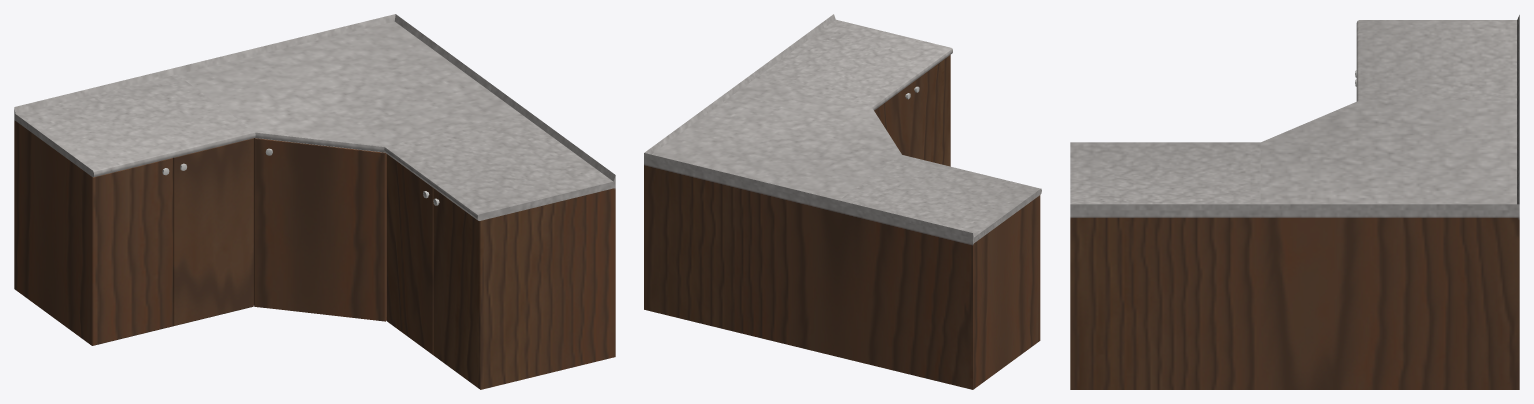
The model's file is CabinetRonded.obj.
3 renders of one model, left to right at view 1: azimuth 30°, elevation 25°; view 2: azimuth 150°, elevation 25°; view 3: azimuth 270°, elevation 25°, orthographic. The views are drawn at different scales.
Visible parts, largest first — view 1: KitchenCabinetRounded; view 2: KitchenCabinetRounded; view 3: KitchenCabinetRounded.
Boxes of the visible parts, x1=… form: KitchenCabinetRounded: x1=14, y1=14, x2=615, y2=389; KitchenCabinetRounded: x1=644, y1=14, x2=1041, y2=389; KitchenCabinetRounded: x1=1070, y1=15, x2=1519, y2=389.
Bounding box in the file's own units: 1.89 × 0.8613 × 1.89.
